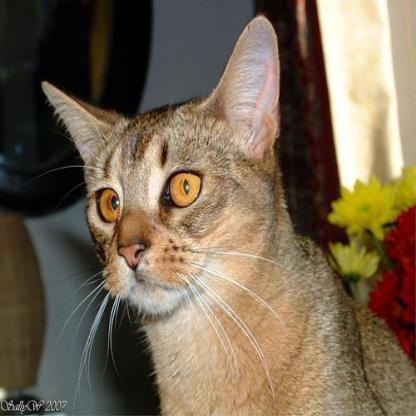cat: (41, 13, 415, 415)
